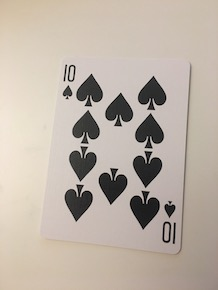TenOfSpades: (39, 53, 192, 258)
